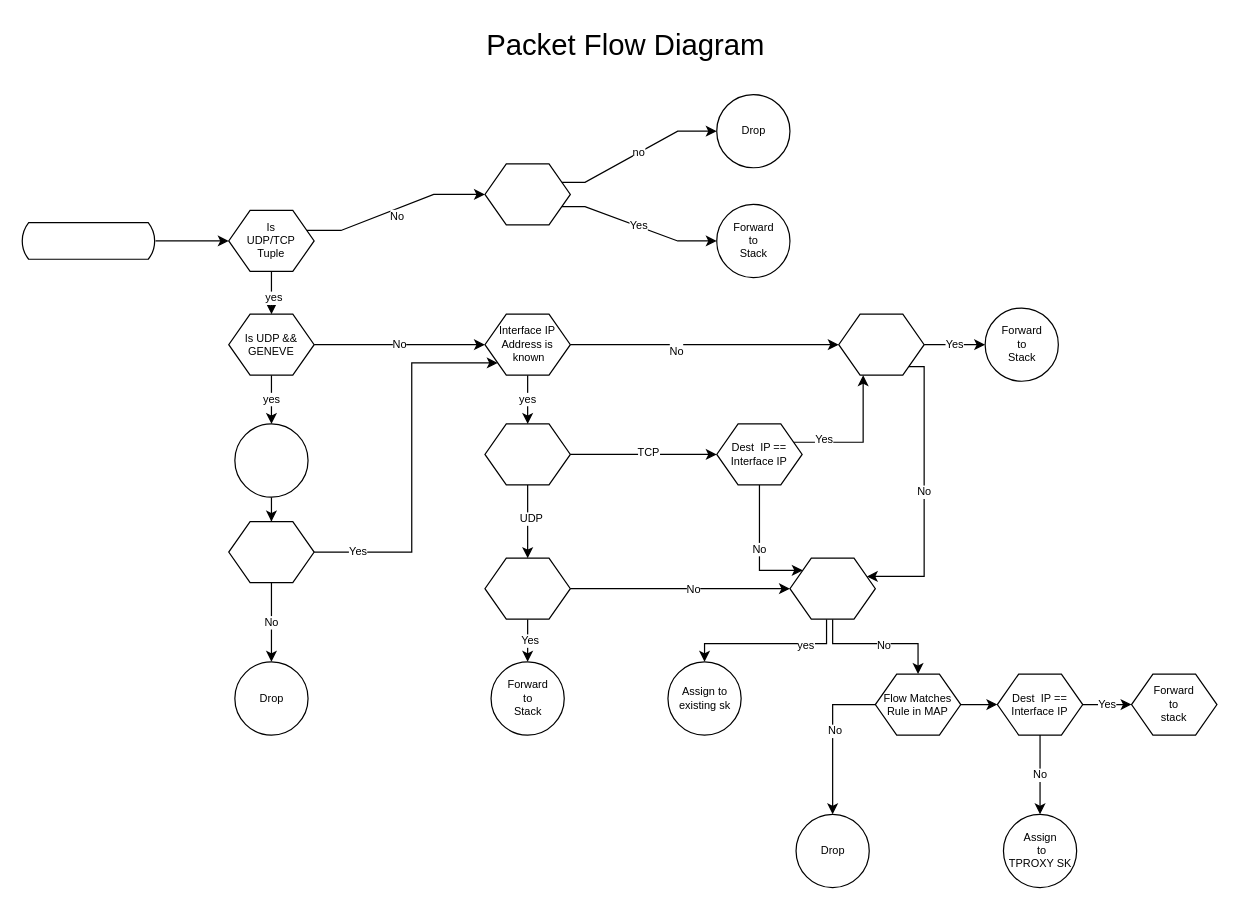
The diagram is 1238 pixels wide and 909 high, and some of its shapes have lost their labels. Here are the shapes that lost their labels. From the top down, the centre of each, then its label:
At point 527,194: "Is Arp".
At point 88,240: "TC QDISC".
At point 881,344: "is ssh".
At point 271,460: "Strip Outer IP".
At point 527,454: "TCP ot UDP".
At point 271,551: "Is TCP or UDP".
At point 527,588: "is DHCP".
At point 832,588: "Is existing flow".
